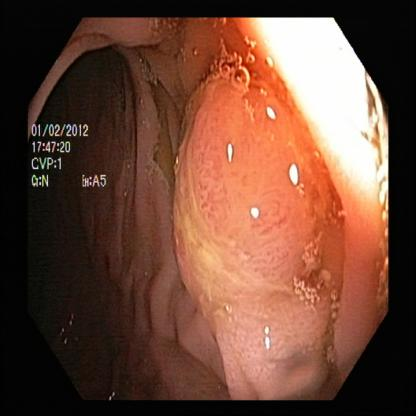Labels: (25, 124, 120, 189)
Polyps: (186, 68, 309, 293), (204, 296, 332, 400)
